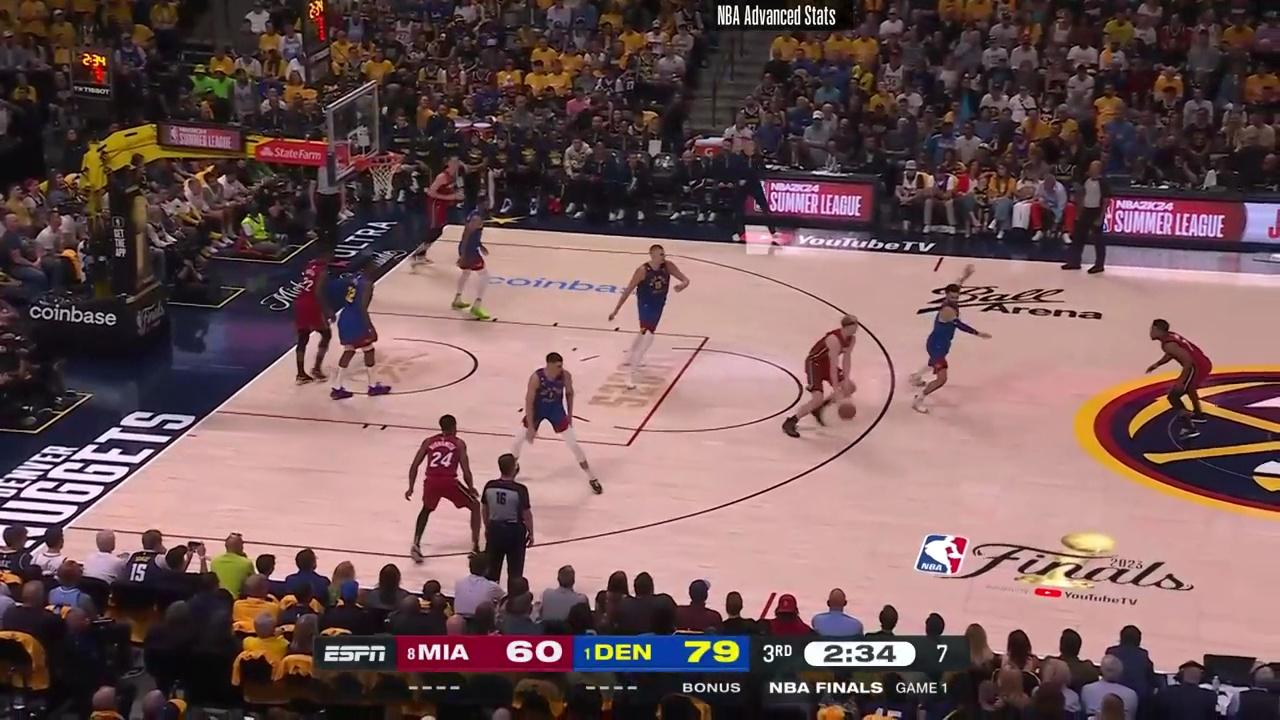Backboard: (330, 81, 379, 188)
Ball: (835, 401, 857, 421)
Basket: (366, 154, 402, 197)
Person: (603, 244, 697, 392), (517, 346, 601, 487), (411, 411, 484, 569), (324, 248, 399, 401), (781, 314, 860, 435), (911, 281, 985, 404), (1144, 319, 1216, 443), (287, 253, 345, 388), (446, 208, 500, 319), (421, 154, 467, 268)
Referee: (480, 450, 541, 589), (1073, 162, 1113, 274)
Shot Clock: (70, 47, 119, 107), (309, 11, 341, 87)
